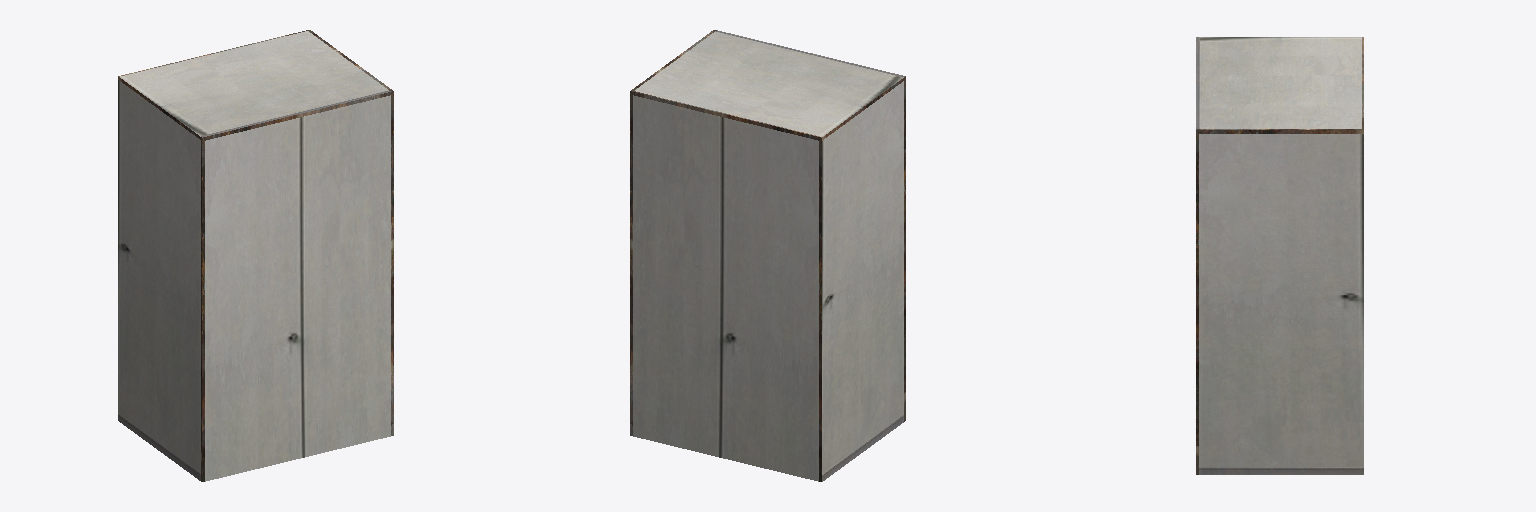
3 views of the same model, side by side, from view 1: azimuth 30°, elevation 25°; view 2: azimuth 150°, elevation 25°; view 3: azimuth 270°, elevation 25° (orthographic).
Visible parts, largest first — view 1: electricBox_4; view 2: electricBox_4; view 3: electricBox_4.
Part boxes in pixels (left/top/right/bottom): electricBox_4: left=118, top=30, right=393, bottom=481; electricBox_4: left=630, top=30, right=905, bottom=481; electricBox_4: left=1196, top=37, right=1363, bottom=474.
Bounding box in the file's own units: 0.6463 × 1.11 × 0.4907.
Materials: 1 (1 with a texture image).